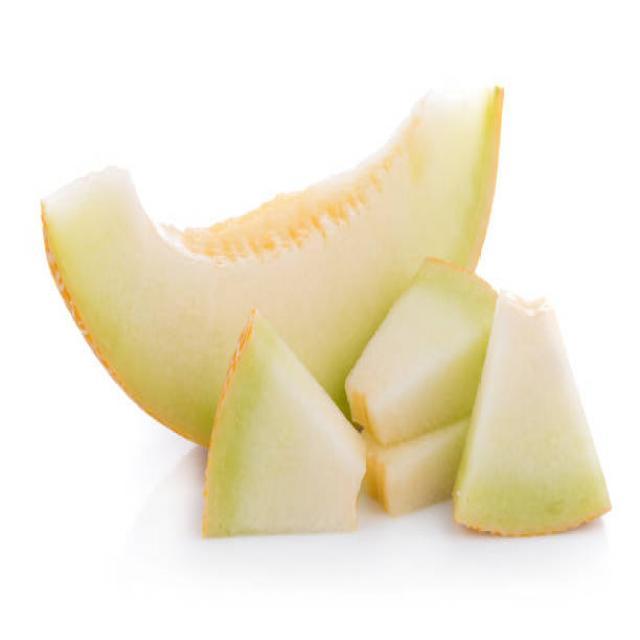Melon: (207, 68, 506, 274), (39, 158, 221, 445)
